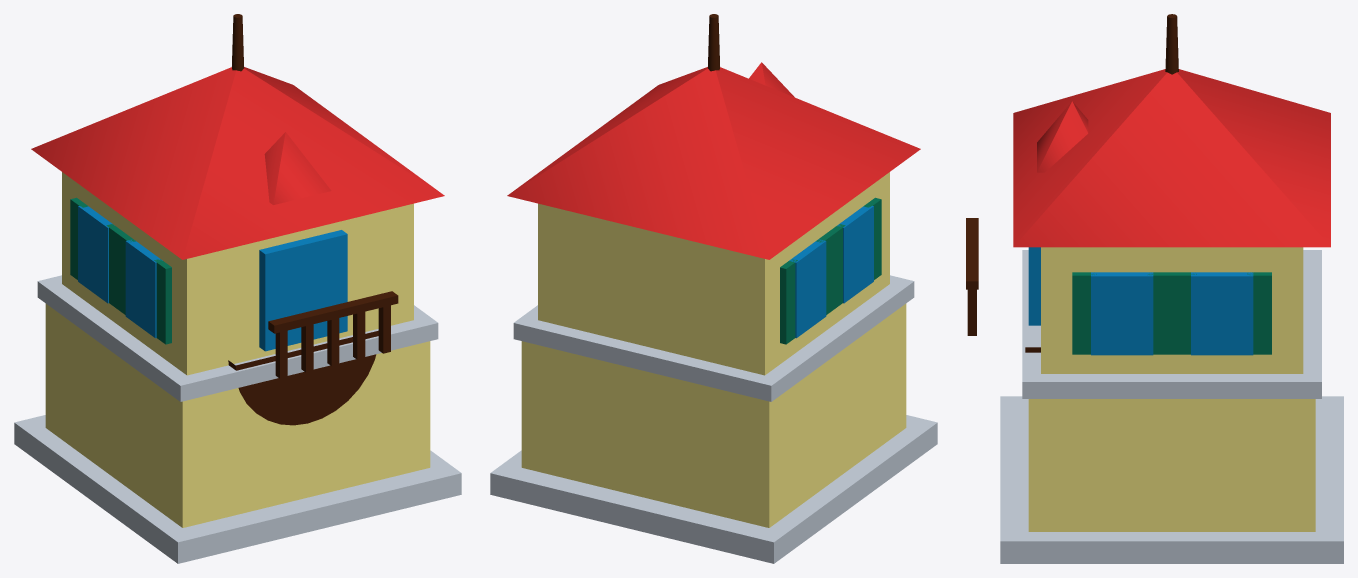
Rendered from bld_riverine_c2.glb.
3 views of the same model, side by side, from view 1: azimuth 30°, elevation 25°; view 2: azimuth 150°, elevation 25°; view 3: azimuth 270°, elevation 25° (orthographic). The views are drawn at different scales.
Parts seen in each view (by area): view 1: Bld_Riverine_C2_CanalHotel; view 2: Bld_Riverine_C2_CanalHotel; view 3: Bld_Riverine_C2_CanalHotel.
Boxes of the visible parts, x1,y1,x2,y2 form: Bld_Riverine_C2_CanalHotel: (14,14,461,563); Bld_Riverine_C2_CanalHotel: (490,14,937,563); Bld_Riverine_C2_CanalHotel: (966,14,1343,563).
Size of the model in its own units: 0.55 by 0.84 by 0.605.
